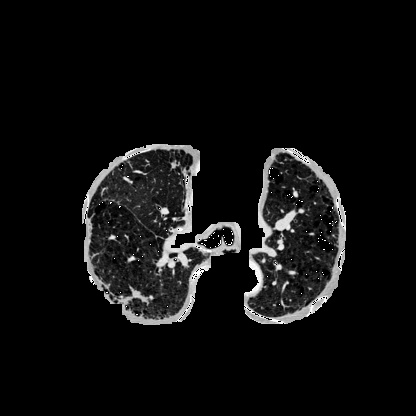PN: (128, 289, 144, 305)
